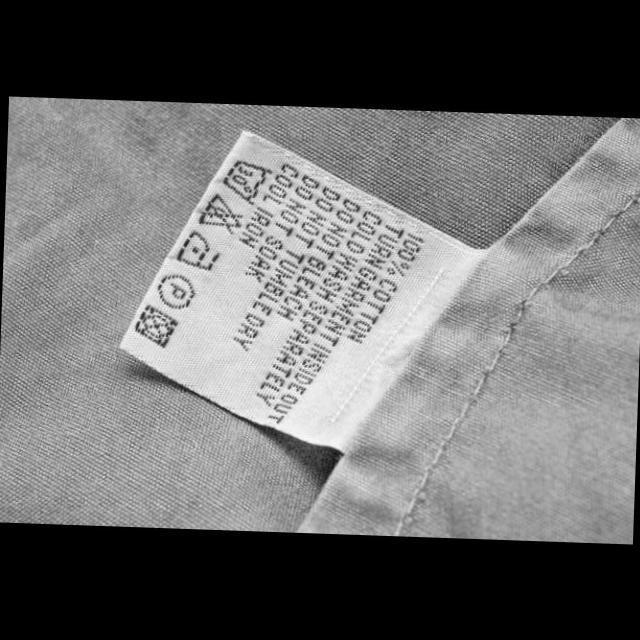30C: (218, 155, 274, 210)
DN_bleach: (189, 192, 248, 238)
DN_tumble_dry: (128, 300, 182, 352)
iron_low: (169, 226, 226, 275)
normal_dry_clean_solvents: (153, 271, 200, 313)
